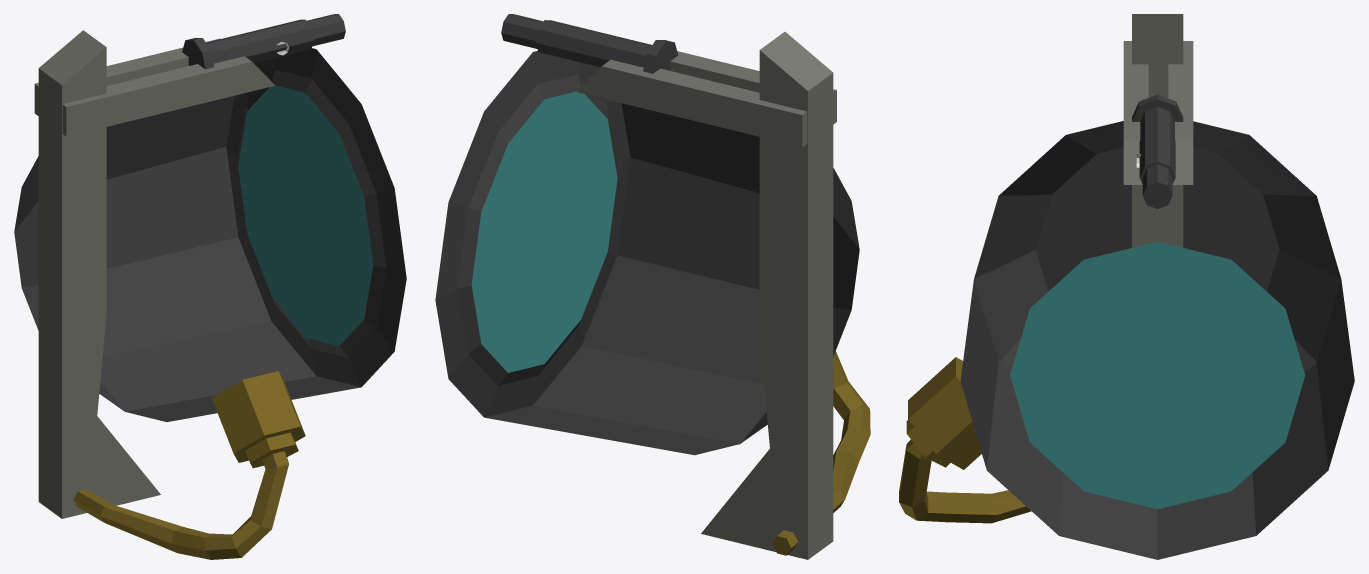
The model's file is nstar.glb.
The picture shows the model from 3 angles, left to right: view 1: azimuth 30°, elevation 25°; view 2: azimuth 150°, elevation 25°; view 3: azimuth 270°, elevation 25°; orthographic projection. The views are drawn at different scales.
Parts seen in each view (by area): view 1: Circle; view 2: Circle; view 3: Circle.
Boxes of the visible parts, x1,y1,x2,y2 form: Circle: (14,14,406,559); Circle: (435,14,870,559); Circle: (899,14,1354,559).
Bounding box in the file's own units: 1.85 × 2.82 × 2.31.
